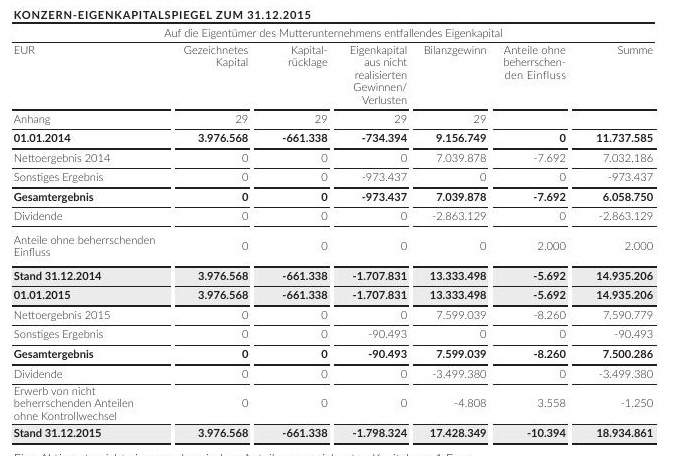table: (0, 0, 673, 456)
